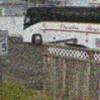buses: (23, 6, 100, 48)
